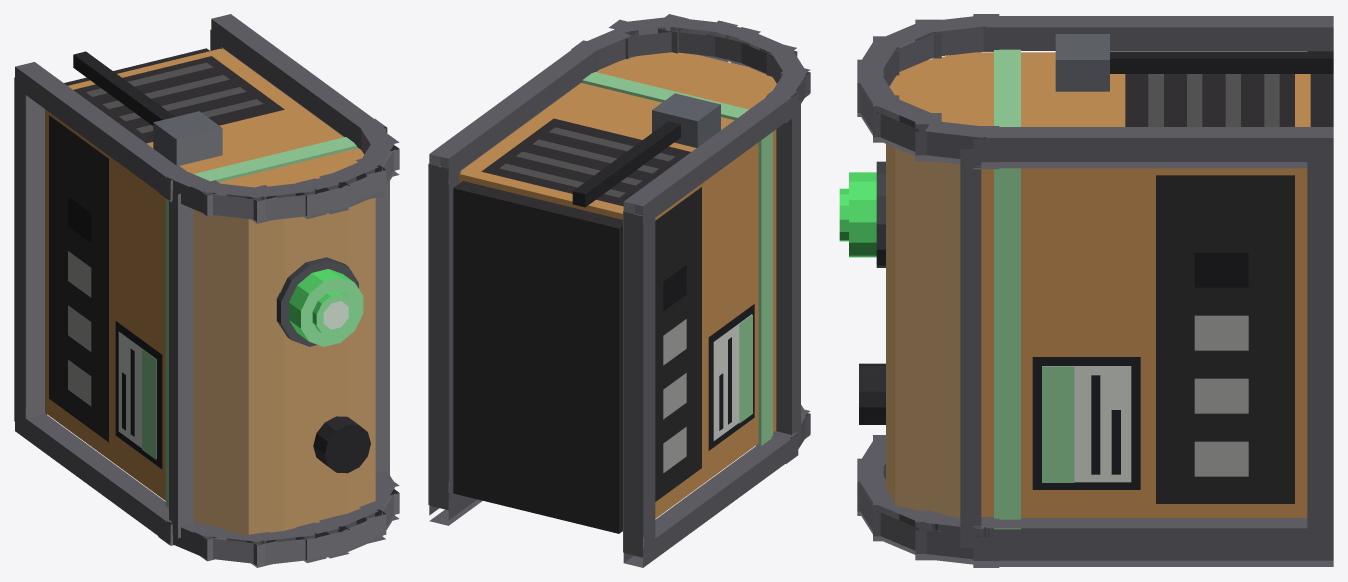
Rendered from backup_ground_premium_on_W.obj.
3 renders of one model, left to right at view 1: azimuth 30°, elevation 25°; view 2: azimuth 150°, elevation 25°; view 3: azimuth 270°, elevation 25°, orthographic. The views are drawn at different scales.
Parts seen in each view (by area): view 1: backup_ground_premium_on_W; view 2: backup_ground_premium_on_W; view 3: backup_ground_premium_on_W.
Boxes of the visible parts, <box> form: backup_ground_premium_on_W: <box>14,14,399,567</box>; backup_ground_premium_on_W: <box>428,14,810,567</box>; backup_ground_premium_on_W: <box>839,14,1333,567</box>.
Size of the model in its own units: 0.377 by 0.625 by 0.6405.
Materials: 1 (1 with a texture image).
